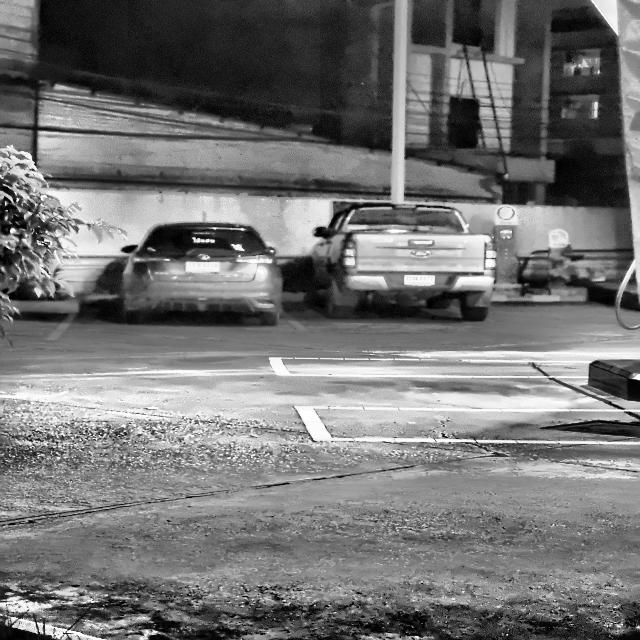license-plate: (401, 272, 439, 288), (185, 261, 220, 274)
